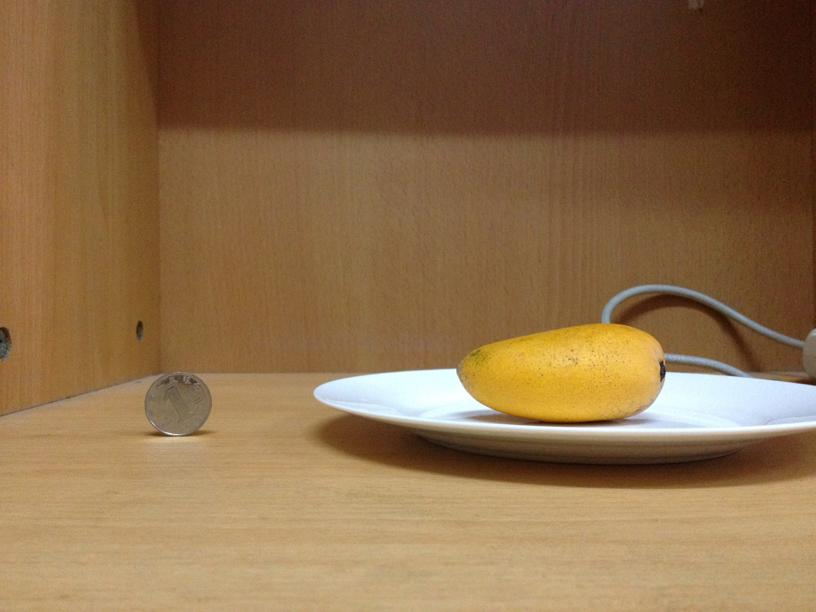coin: (144, 372, 212, 437)
mango: (456, 323, 667, 422)
